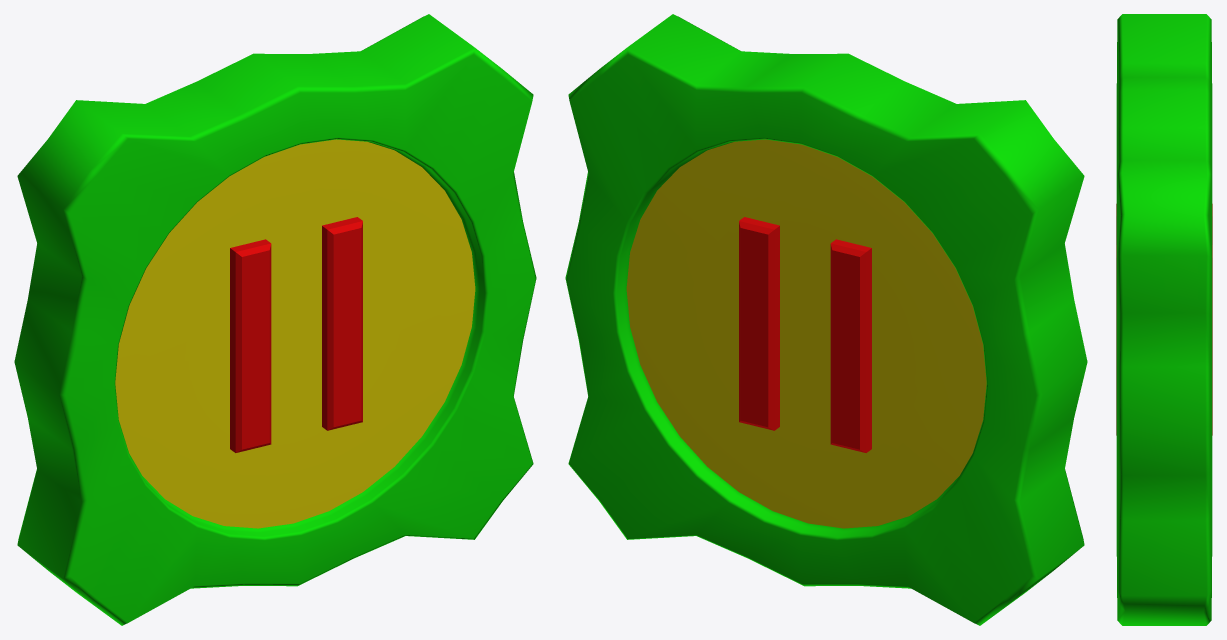
3 renders of one model, left to right at view 1: azimuth 30°, elevation 25°; view 2: azimuth 150°, elevation 25°; view 3: azimuth 270°, elevation 25°, orthographic. The views are drawn at different scales.
Visible parts, largest first — view 1: SM_Coin_02; view 2: SM_Coin_02; view 3: SM_Coin_02.
Boxes of the visible parts, left/top/right/bottom form: SM_Coin_02: left=14, top=14, right=536, bottom=625; SM_Coin_02: left=565, top=14, right=1087, bottom=625; SM_Coin_02: left=1116, top=14, right=1212, bottom=625.
Bounding box in the file's own units: 2 × 2 × 0.3804.
